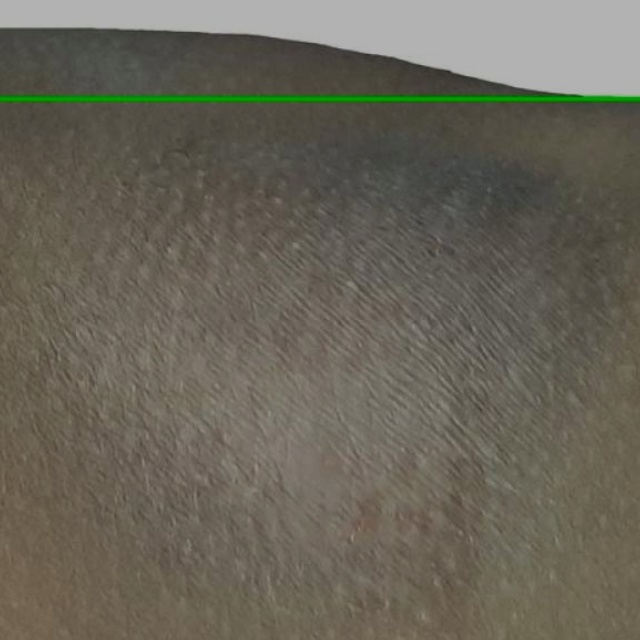Atopic Dermatitis: (0, 0, 639, 99)
